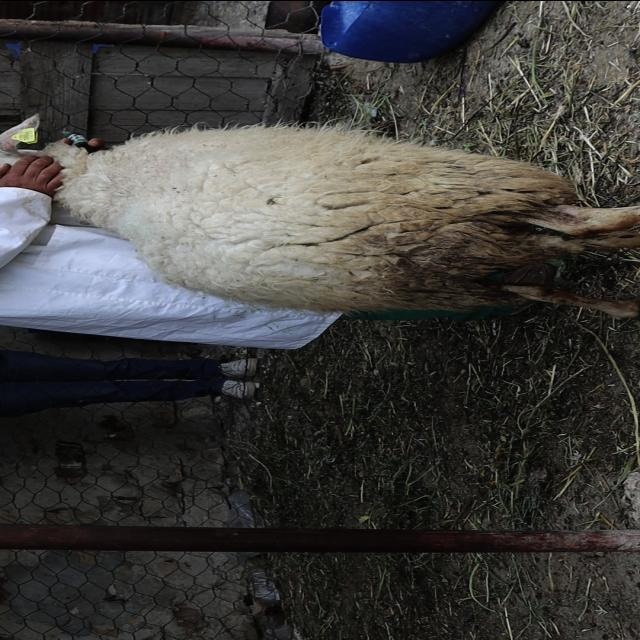Score_3: (0, 113, 639, 317)
